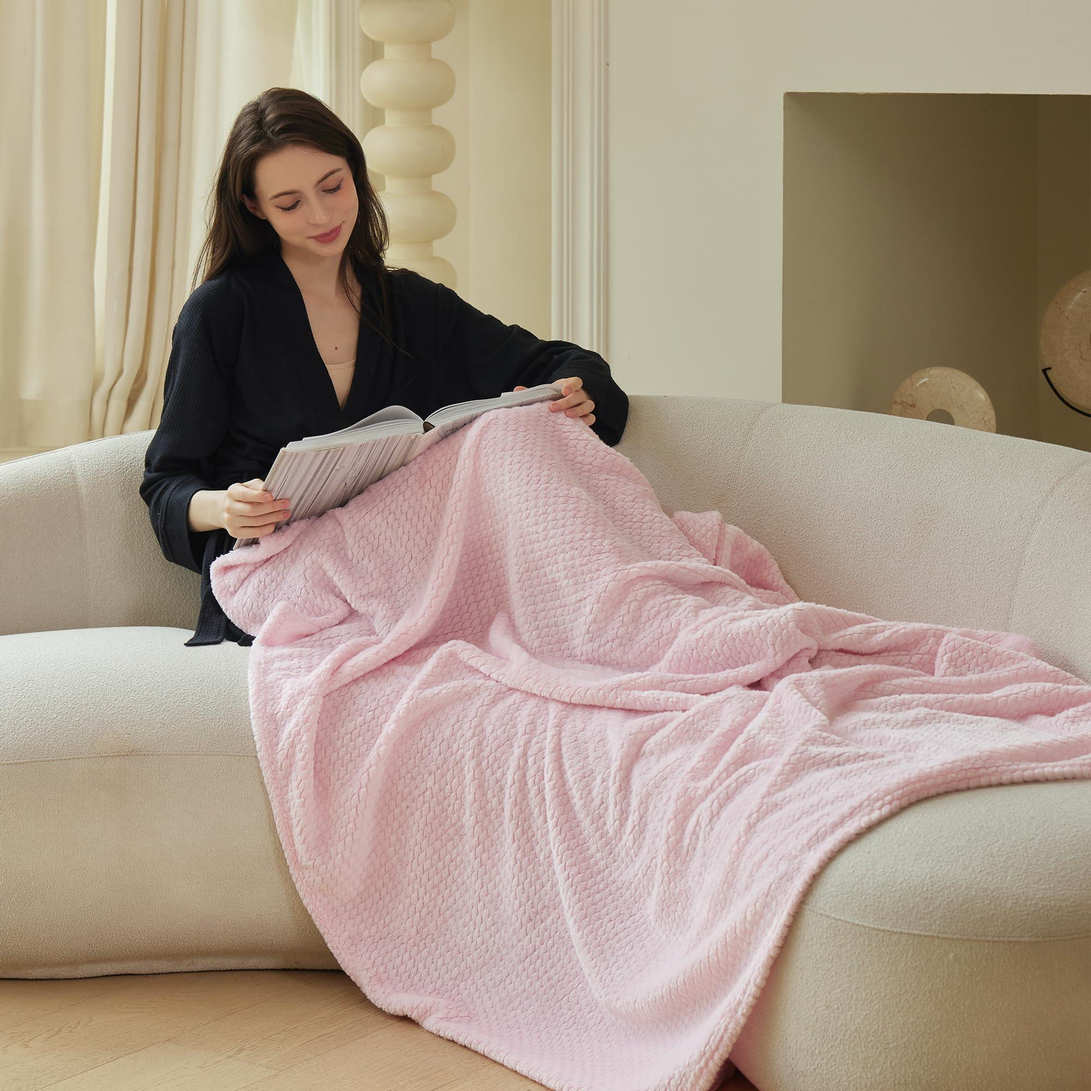blanket: (206, 397, 1091, 1091)
long sleeve shirt: (133, 259, 637, 651)
